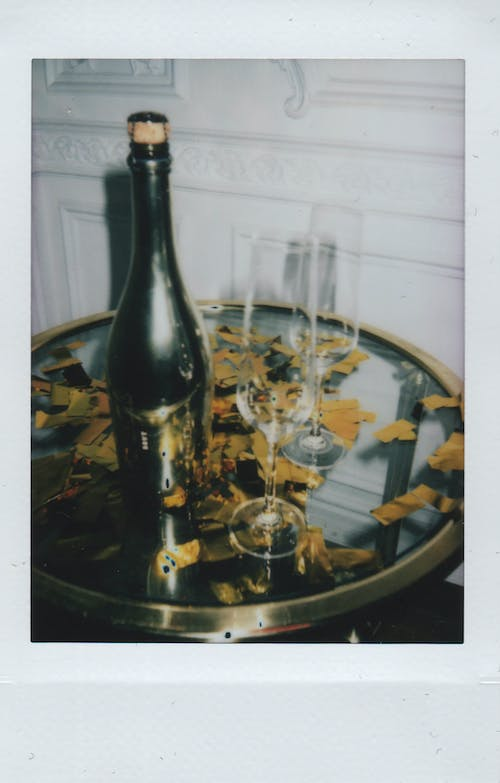alcohol: (105, 108, 213, 513)
